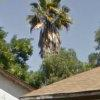Palm tree: (24, 2, 87, 55)
